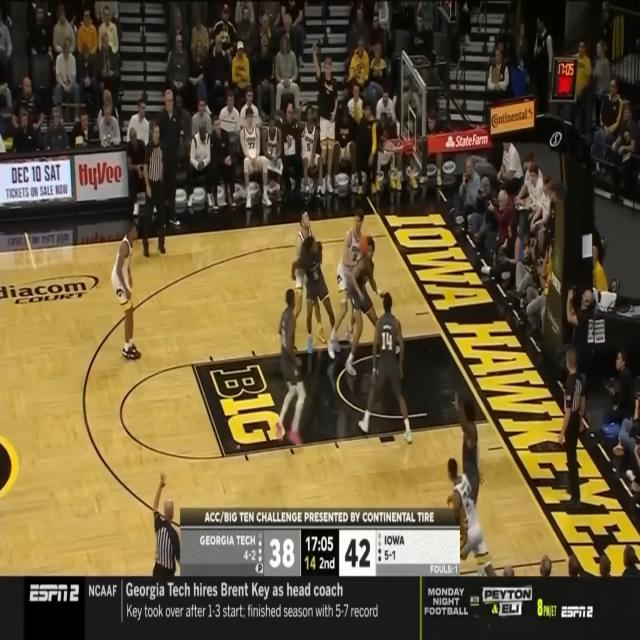Ball: (358, 238, 369, 257)
Hoop: (382, 137, 405, 160)
Period: (318, 555, 336, 571)
Player: (358, 290, 413, 444), (343, 237, 402, 376), (288, 236, 342, 354), (446, 456, 496, 574), (274, 289, 306, 448), (290, 213, 327, 343), (111, 220, 142, 360), (452, 389, 486, 498)
Ref: (556, 346, 588, 508), (141, 120, 167, 256), (151, 470, 180, 576)
Shot Clock: (304, 554, 316, 572)
Team Name: (199, 534, 256, 547), (384, 533, 406, 547)
Team Points: (344, 536, 372, 570), (270, 538, 294, 570)
Time Remaining: (305, 534, 334, 553)
